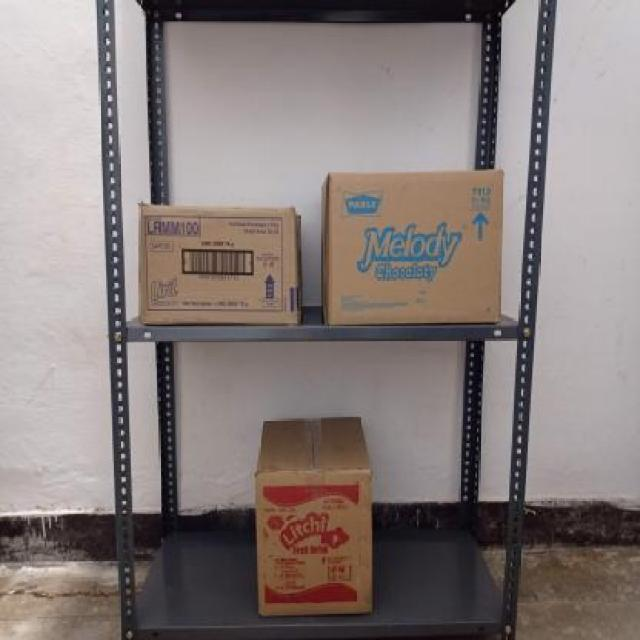box: (328, 170, 502, 324), (136, 208, 296, 324), (255, 468, 372, 614)
